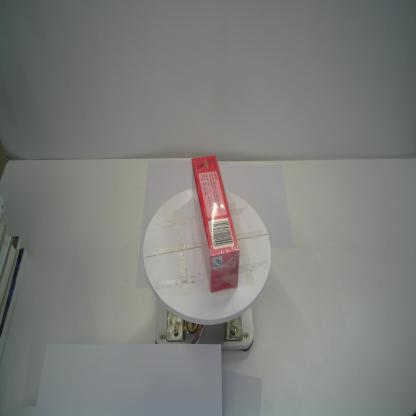Instant Drink: (191, 156, 239, 293)
